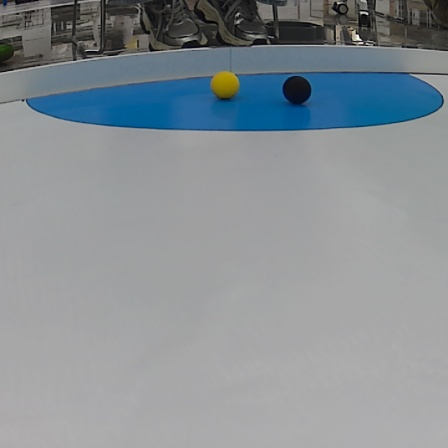black: (282, 75, 317, 104)
blue_base: (17, 71, 445, 131)
yellow: (209, 71, 242, 99)
